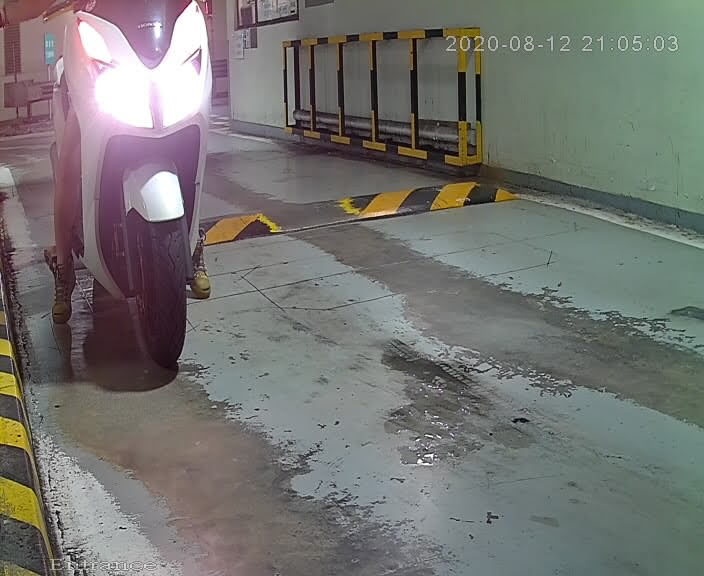motorcycle: (12, 1, 241, 394)
